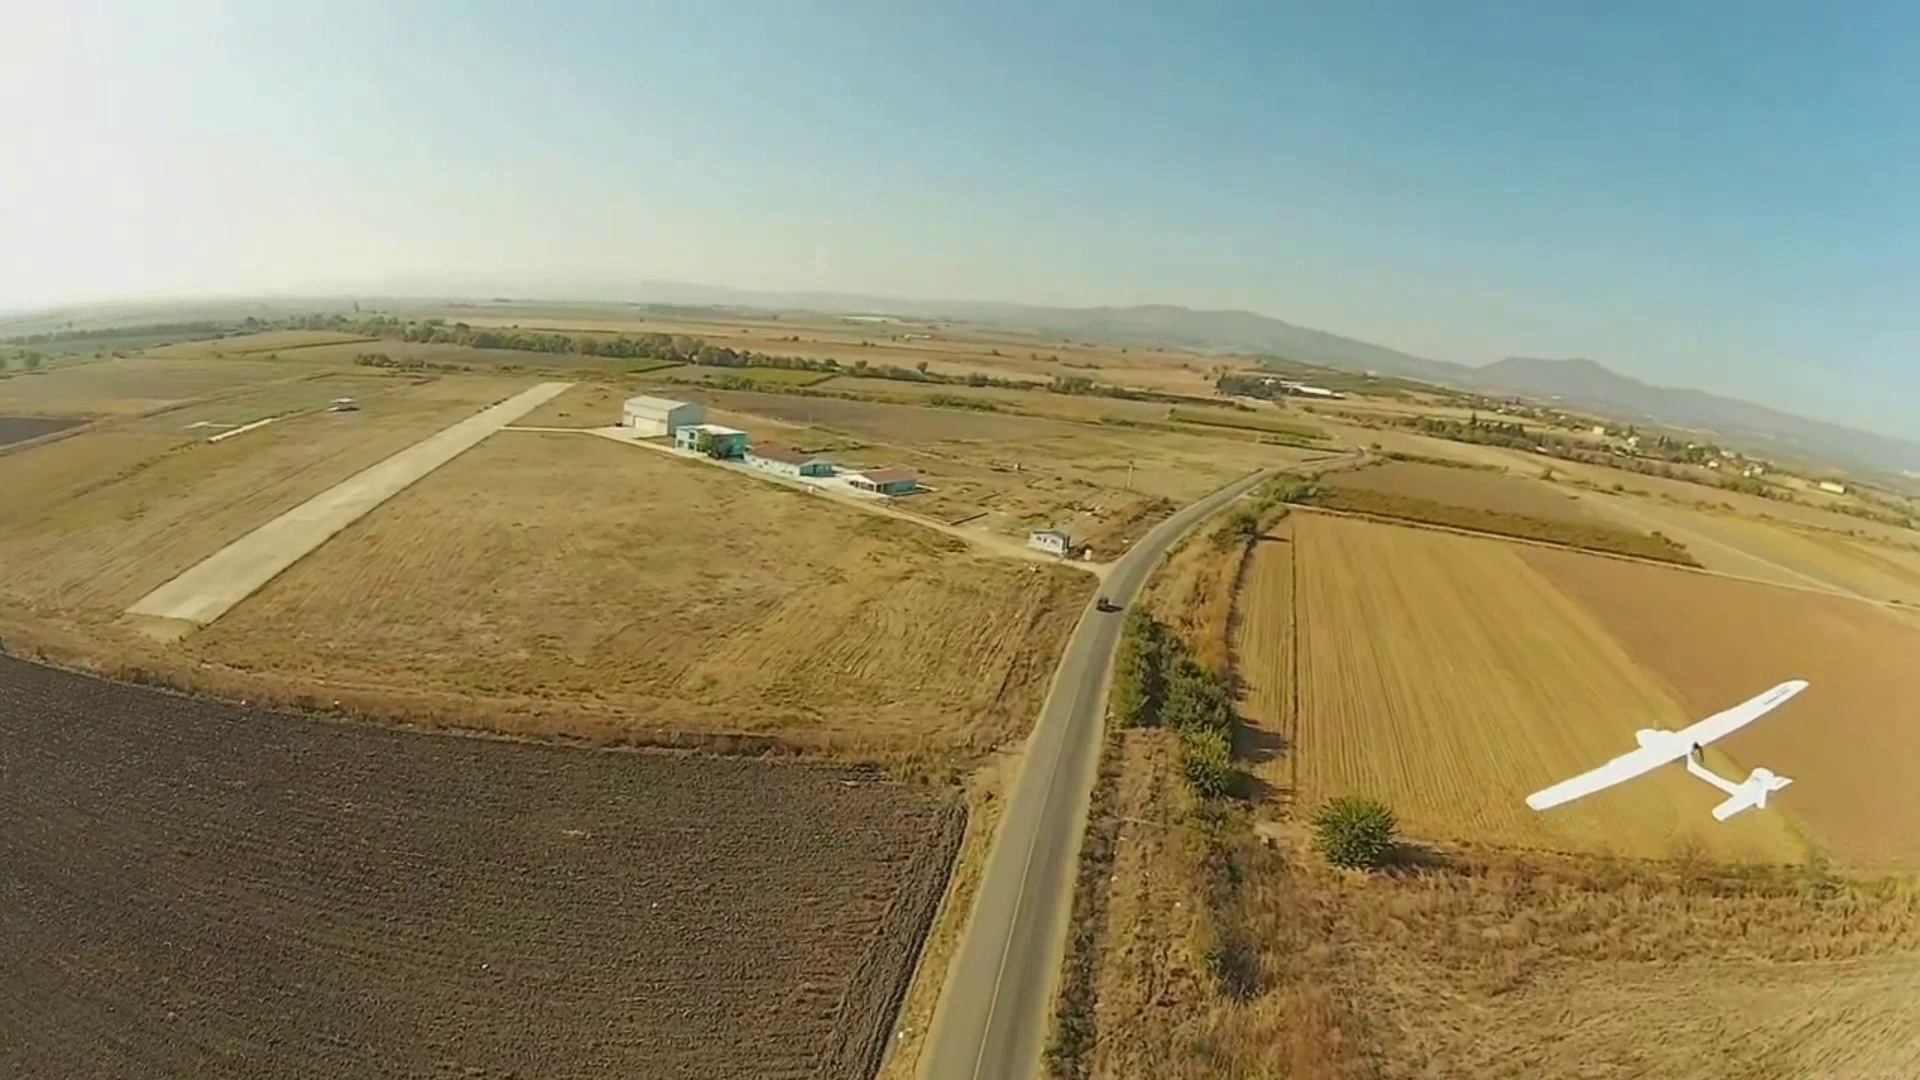airplane: (1523, 679, 1811, 824)
